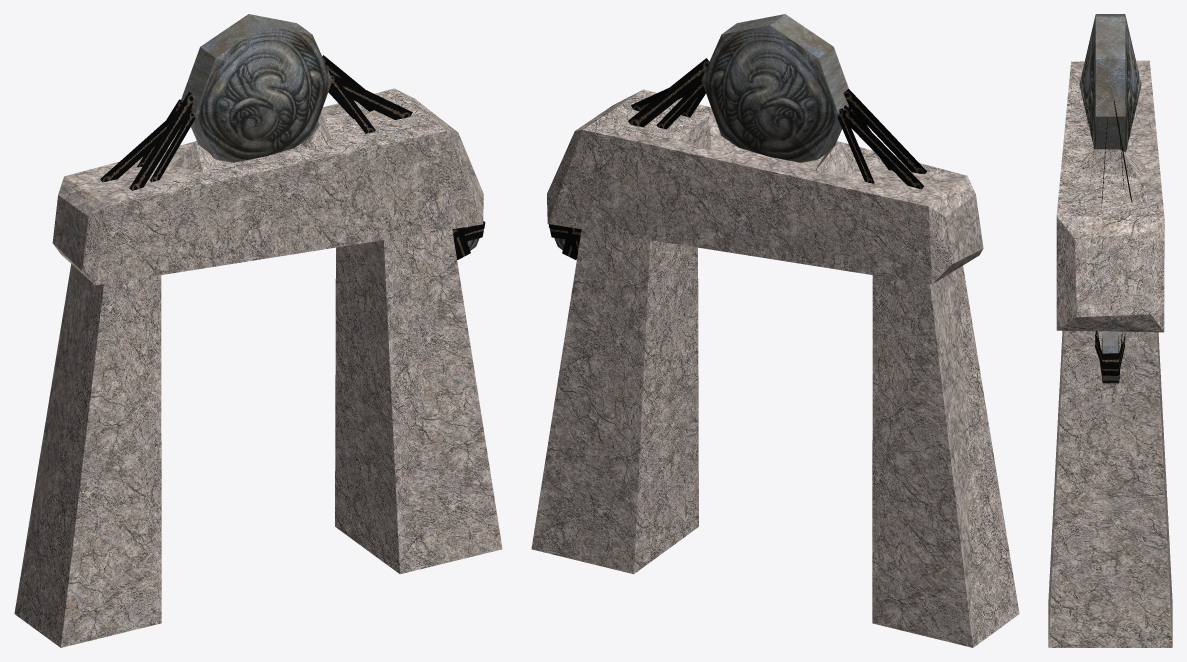
File: thm_dath_mtn_clan_gate_s01_l2.fbx
The picture shows the model from 3 angles, left to right: view 1: azimuth 30°, elevation 25°; view 2: azimuth 150°, elevation 25°; view 3: azimuth 270°, elevation 25°; orthographic projection. The views are drawn at different scales.
Parts seen in each view (by area): view 1: mesh_node; view 2: mesh_node; view 3: mesh_node.
Part boxes in pixels (x1,y1,x2,y2): mesh_node: [14, 14, 502, 647]; mesh_node: [531, 14, 1019, 647]; mesh_node: [1048, 14, 1172, 647].
Bounding box in the file's own units: 10.73 × 12.89 × 2.73.
